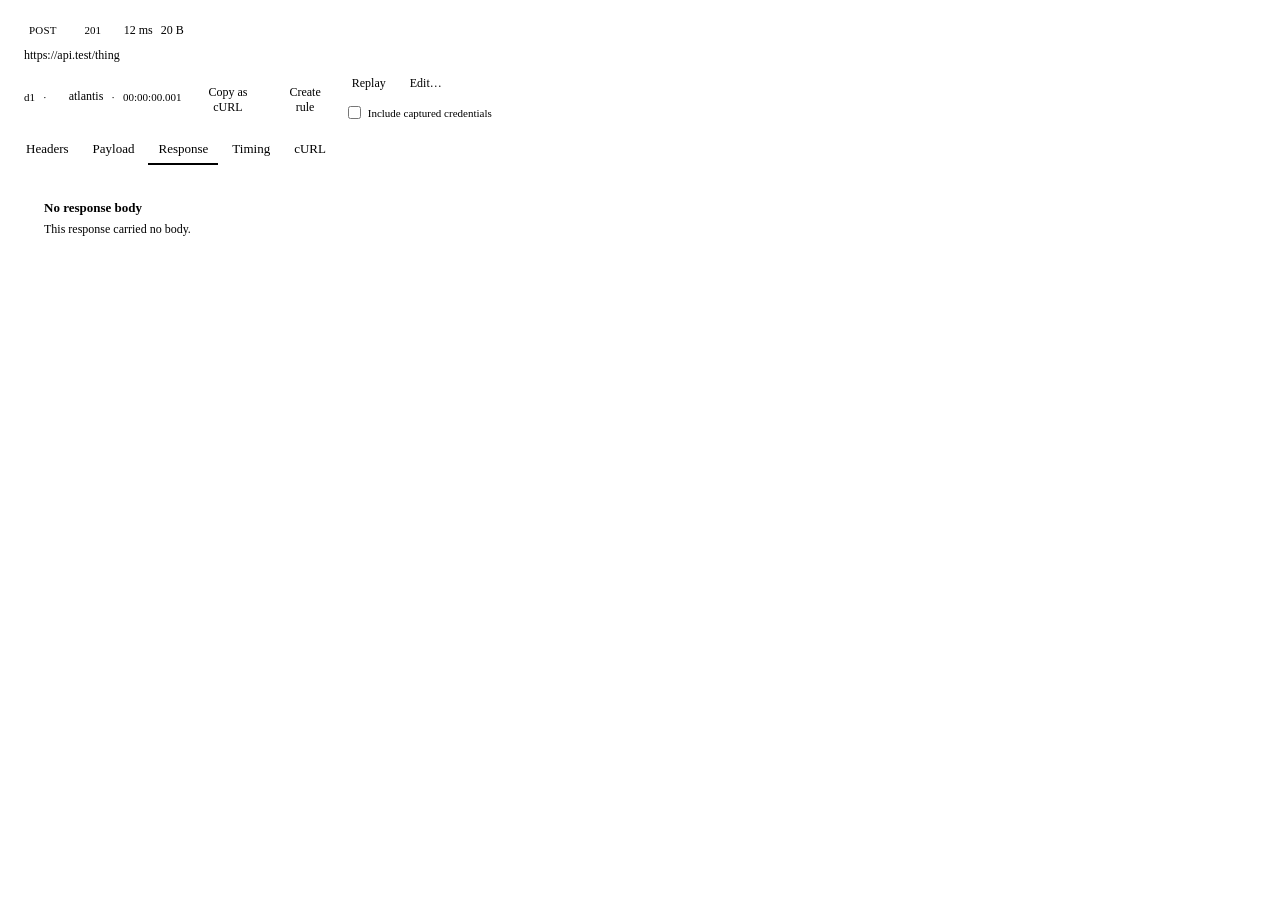
Scenario: DetailPanel replay editor (U4) › Edit… opens the editor prefilled with the captured binary body, Send navigates to the replay
Click the button "Edit…". click: (426, 83)
box: [402,71,450,95]
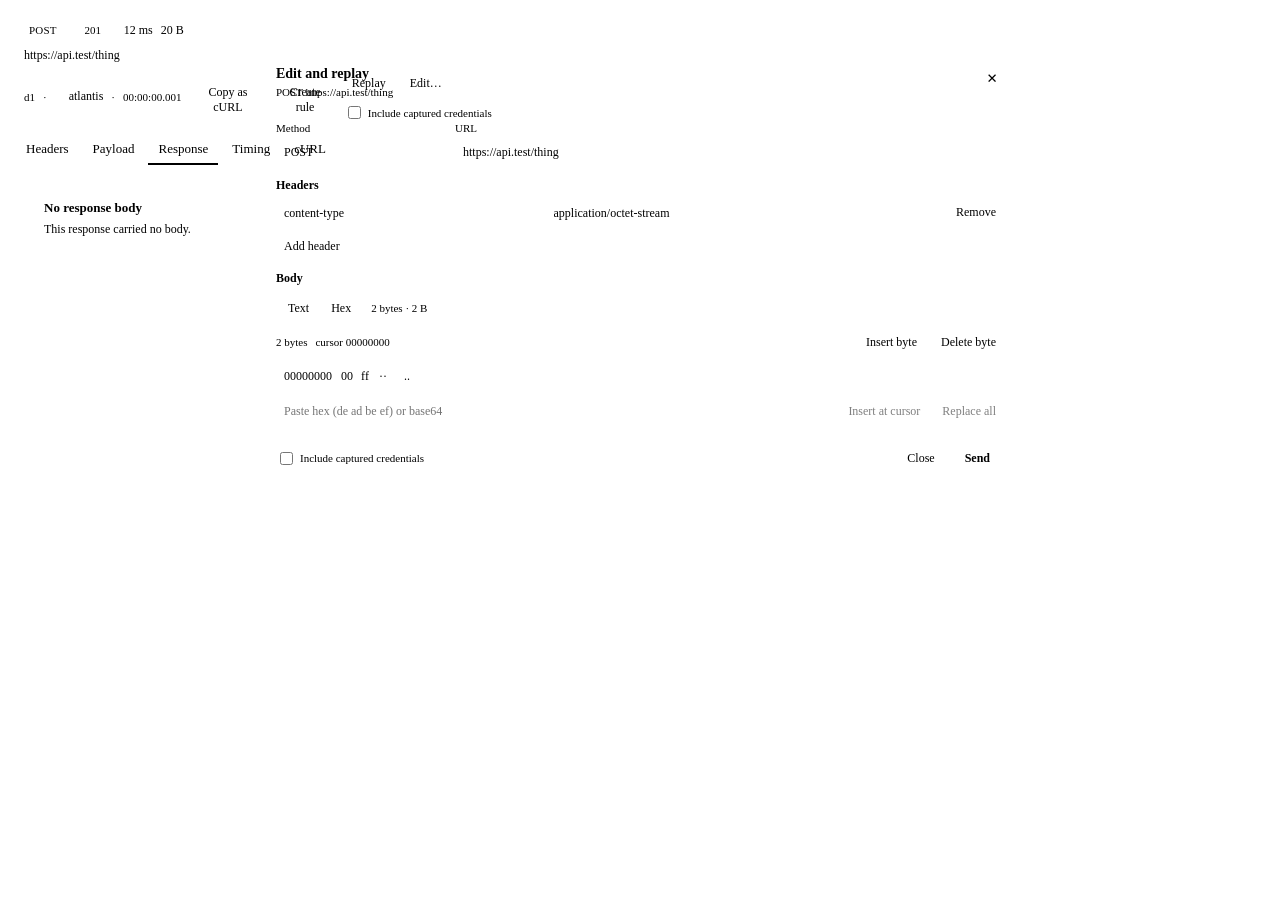
expect the dialog shows "Edit and replay": met, box [276,66,369,81]
expect the field labelled "URL" holds "https://api.test/thing": met, box [455,138,1004,166]
expect the text with test id "replay-byte-count" shows "2 bytes": met, box [371,302,427,314]
Press 4 in the table, box [284,369,410,383]
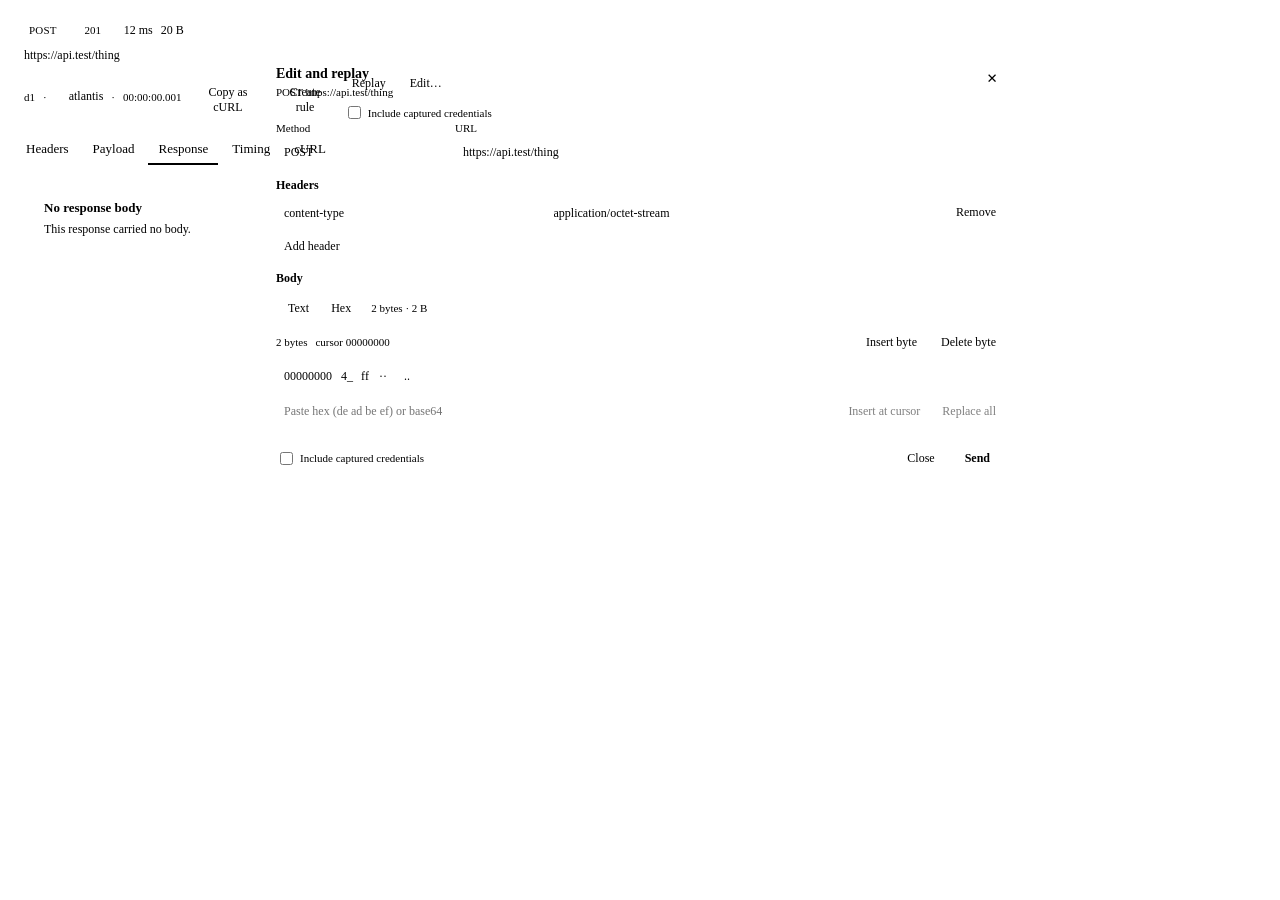
Press 1 in the table, box [284,369,410,383]
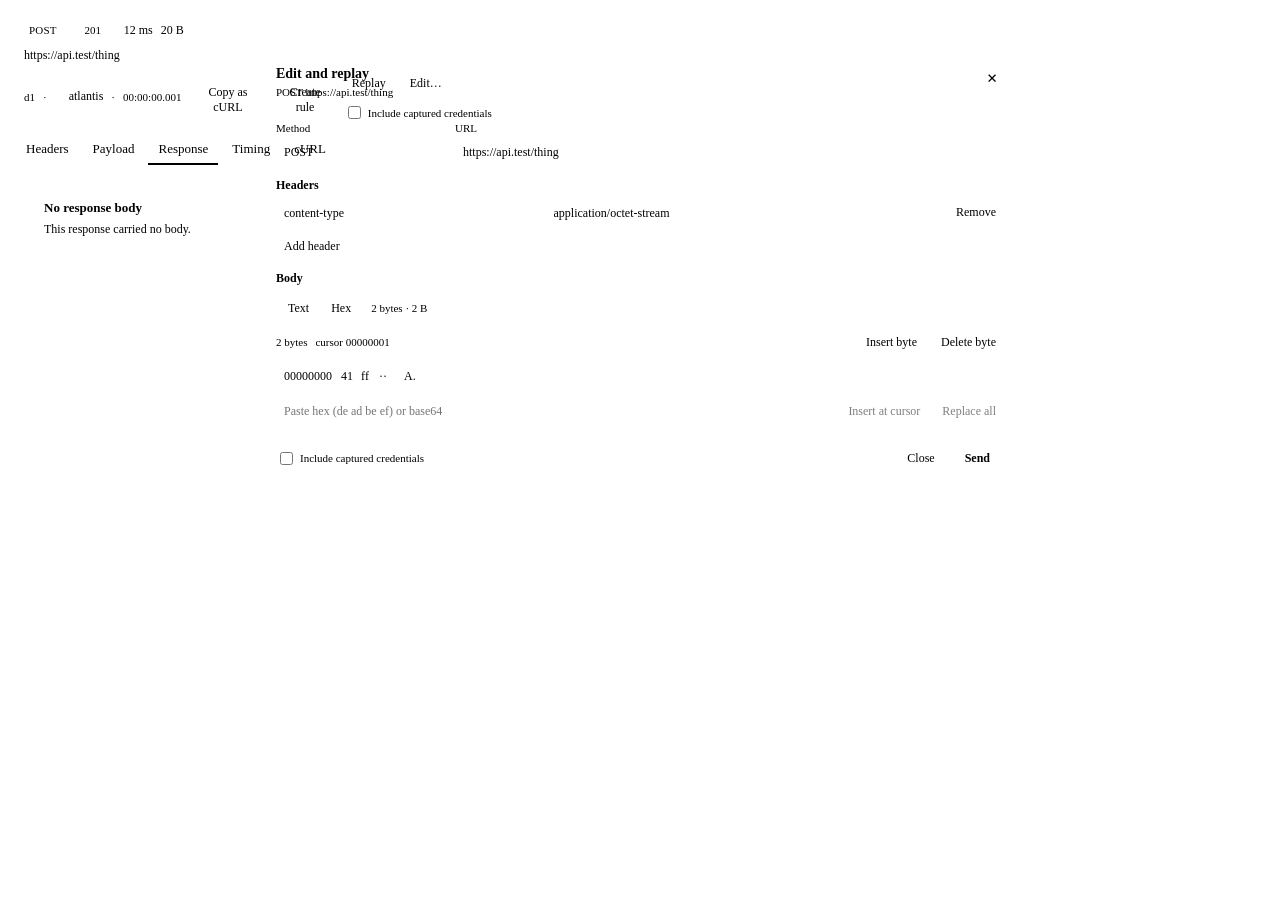
Click the button "Send". click: (977, 458)
box: [951,444,1004,472]
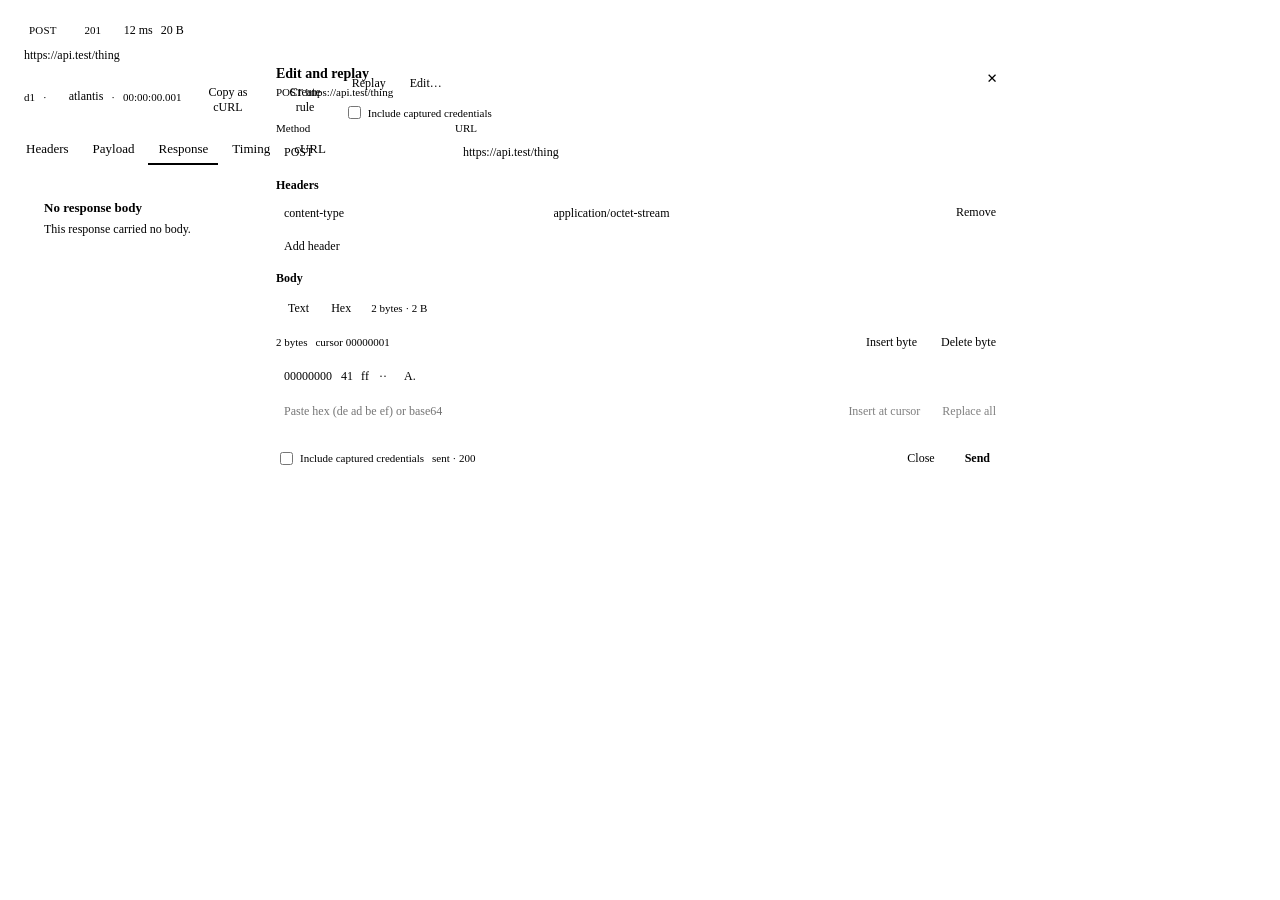
expect the message reads "sent · 200": met, box [432,452,475,464]
